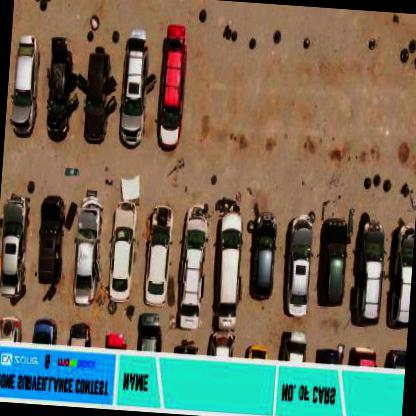car: (211, 208, 245, 350), (71, 193, 107, 307), (155, 28, 188, 152), (42, 38, 80, 142), (178, 207, 210, 330), (118, 30, 150, 146), (9, 37, 42, 137), (144, 205, 175, 306), (0, 198, 30, 301), (284, 213, 314, 316), (320, 214, 352, 307), (82, 50, 112, 144), (36, 194, 64, 286), (250, 212, 279, 300), (140, 314, 162, 349), (32, 318, 56, 343)
